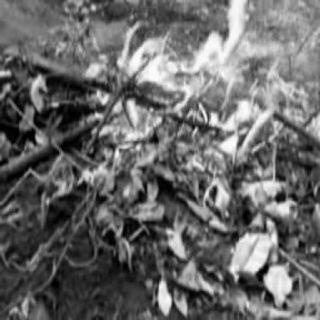Fire: (86, 0, 309, 182)
